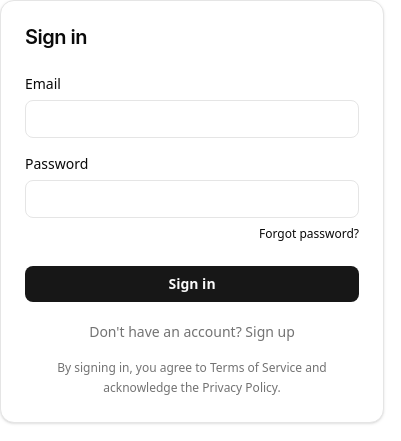
Test: SignInForm › shows a user-not-found message without moving the submit button
In the field labelled "Email": (192, 119) [25,100,359,138], type "missing@example.com"
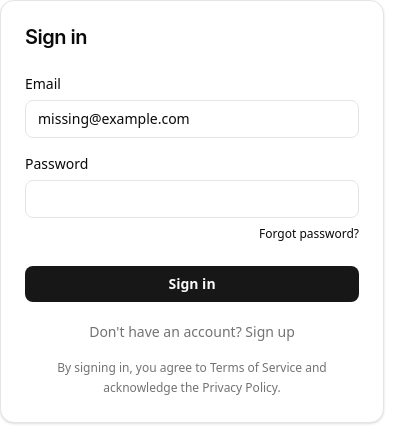
In the password field labelled "Password": (192, 199) [25,180,359,218], type "password"
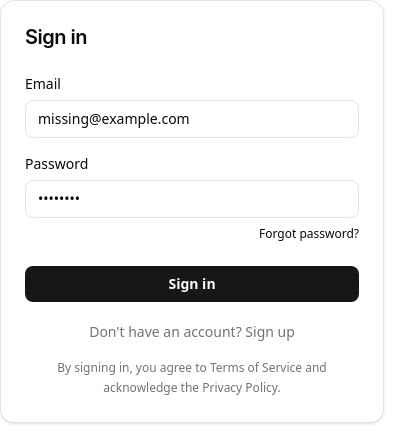
Submit the form "Sign in"
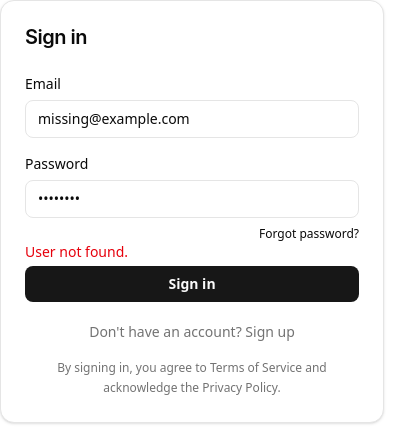
Expected: the message reads "User not found.", [25,242,128,261]
